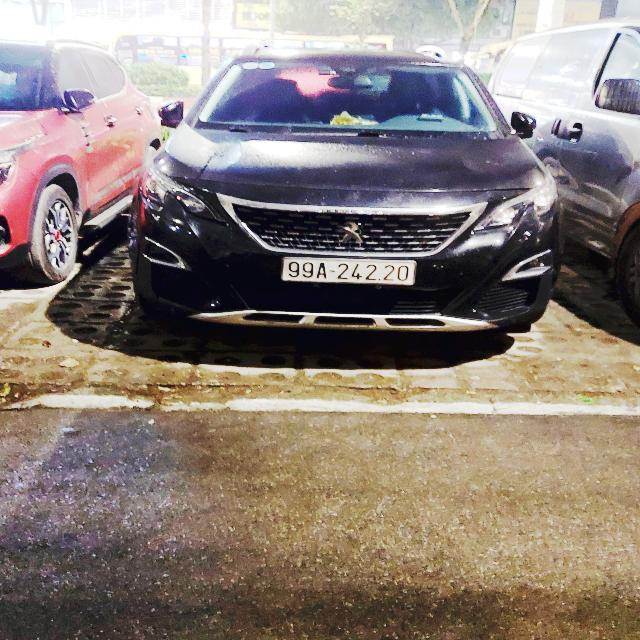license_plate: (281, 258, 419, 287)
